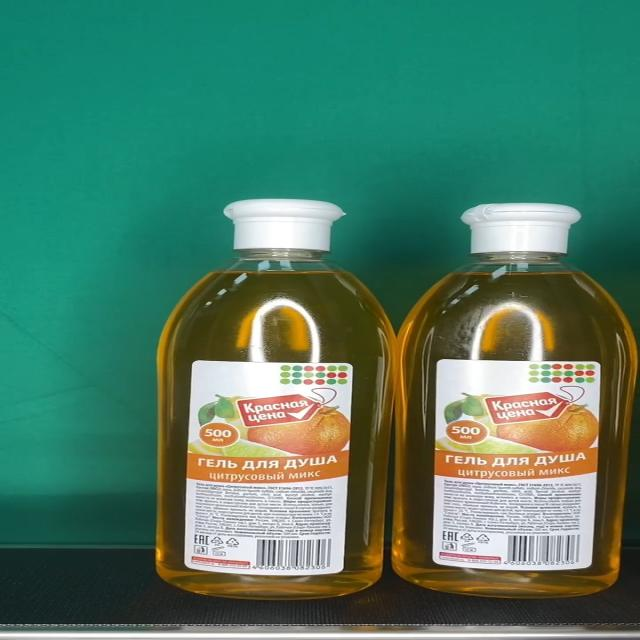Bottle: (392, 203, 640, 599), (156, 197, 394, 599)
Cap: (461, 203, 581, 254), (225, 198, 346, 248)
